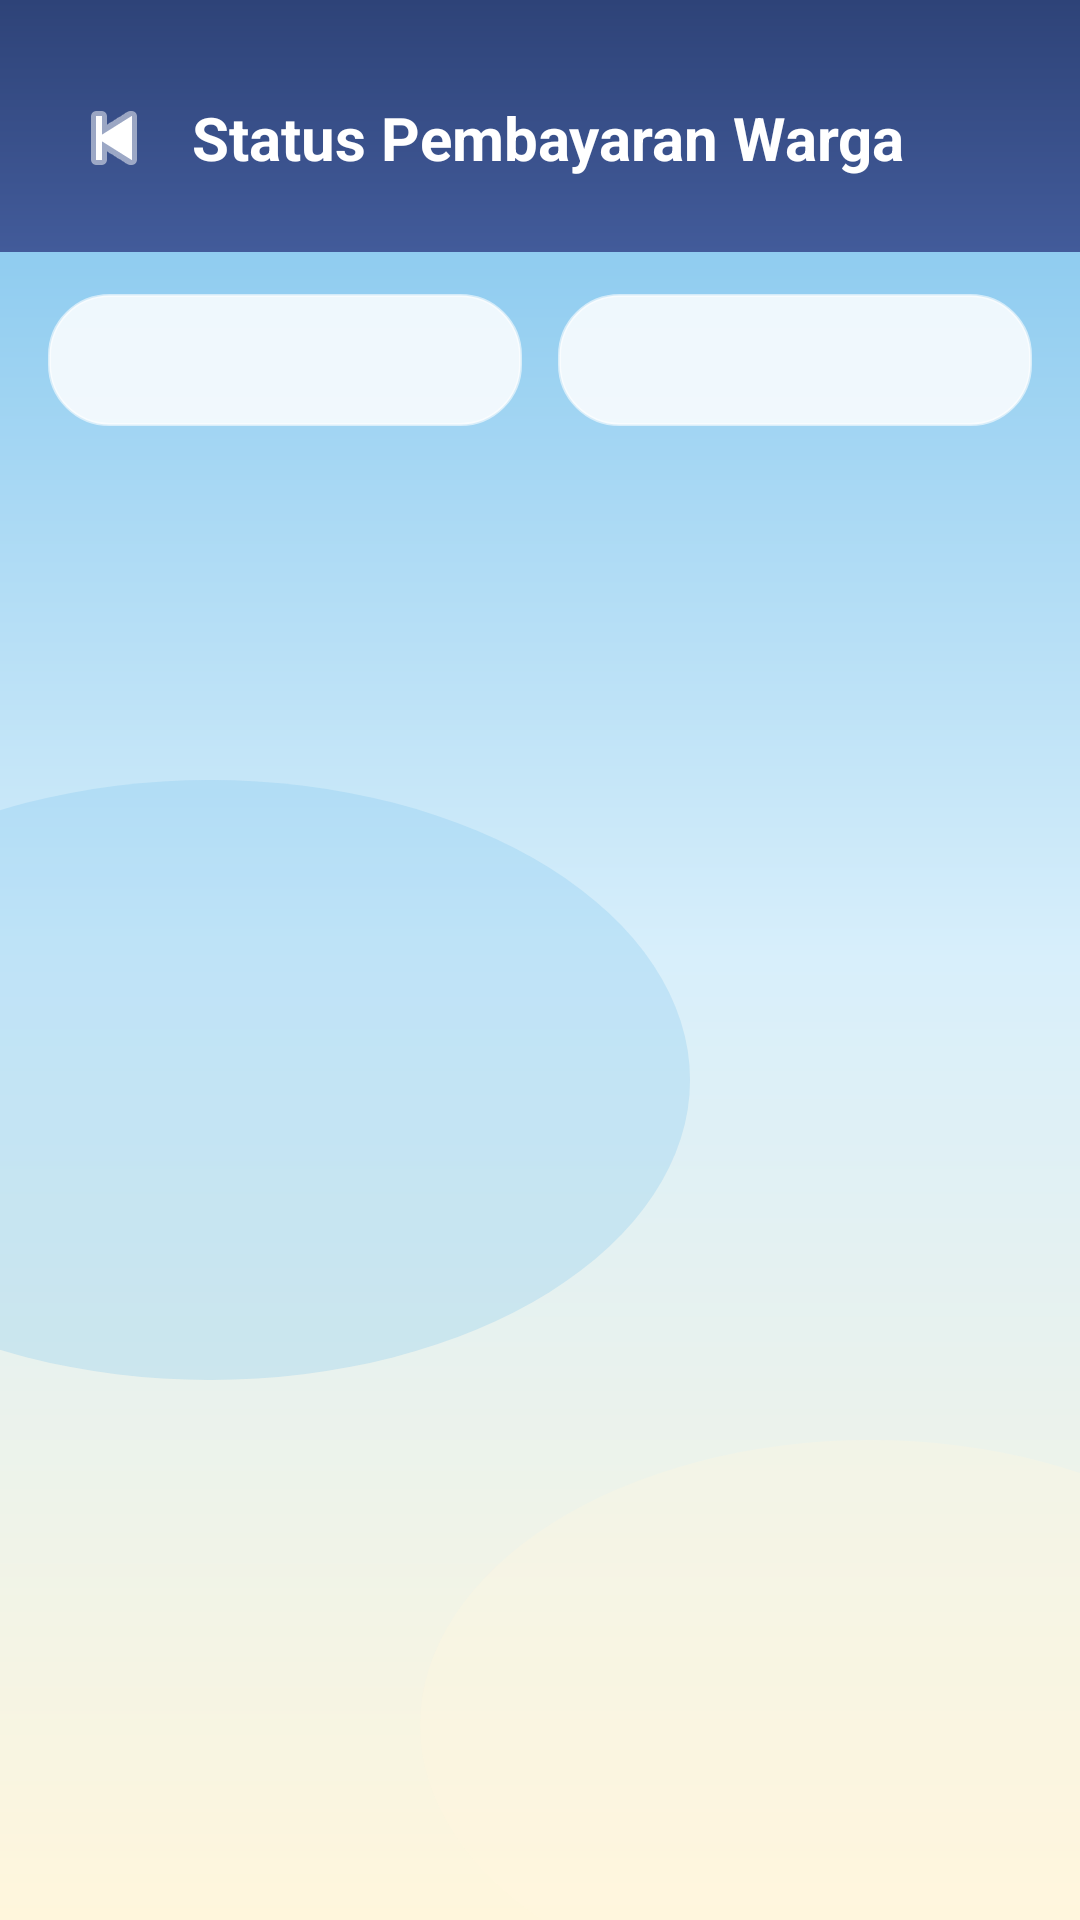

Named icons in this screenshot (1080×1920) and their centers, (x=x, y=y):
Kembali: (x=114, y=138)
